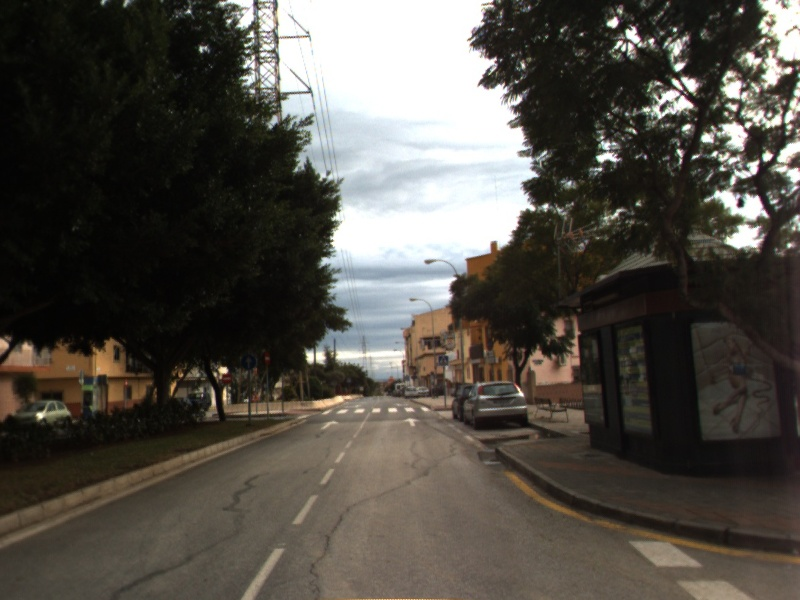STRAIGHT: (318, 417, 341, 431), (401, 415, 423, 428)
